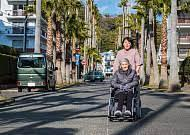push_wheelchair: (113, 37, 143, 114)
wheelchair: (108, 57, 141, 123)
